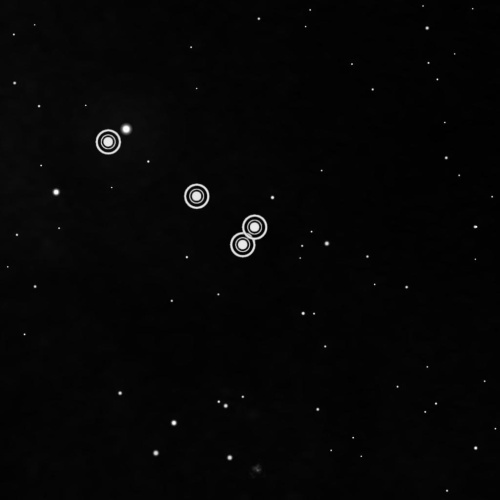sagitta: (89, 123, 274, 262)
